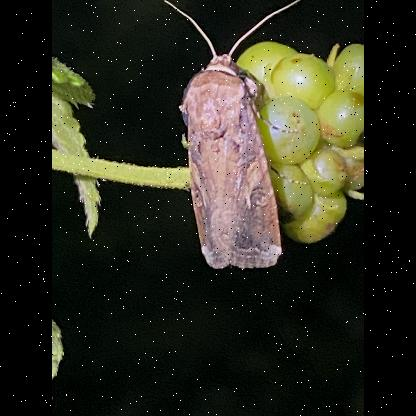Fall Armyworm Moth: (162, 0, 310, 272)
